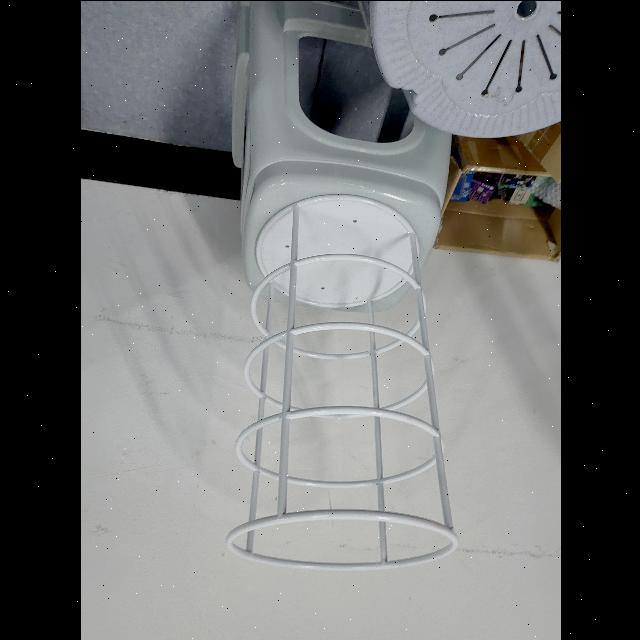S: (222, 190, 460, 572)
